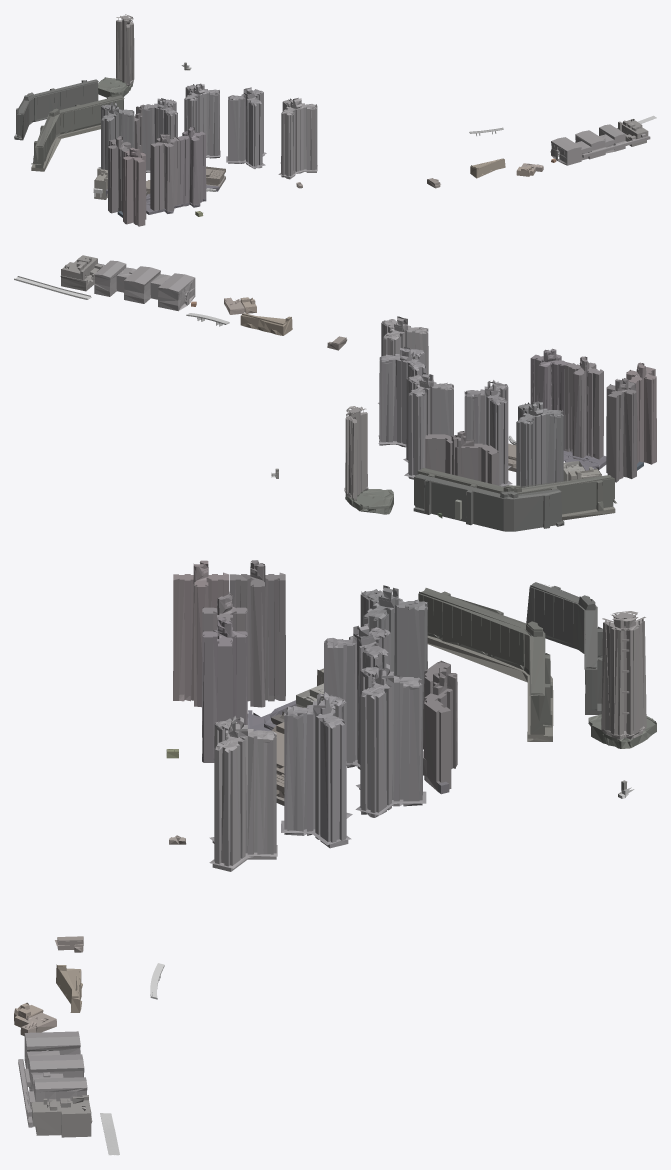
3 renders of one model, top to bottom at view 1: azimuth 30°, elevation 25°; view 2: azimuth 150°, elevation 25°; view 3: azimuth 270°, elevation 25°, orthographic. The views are drawn at different scales.
Parts seen in each view (by area): view 1: buildings; view 2: buildings, infrastructure; view 3: buildings, infrastructure.
Boxes of the visible parts, x1=… form: buildings: x1=14, y1=14, x2=650, y2=226; buildings: x1=60, y1=255, x2=656, y2=531; infrastructure: x1=14, y1=276, x2=516, y2=477; buildings: x1=14, y1=560, x2=656, y2=1137; infrastructure: x1=100, y1=787, x2=634, y2=1155.
Size of the model in its own units: 857 by 151 by 470.
